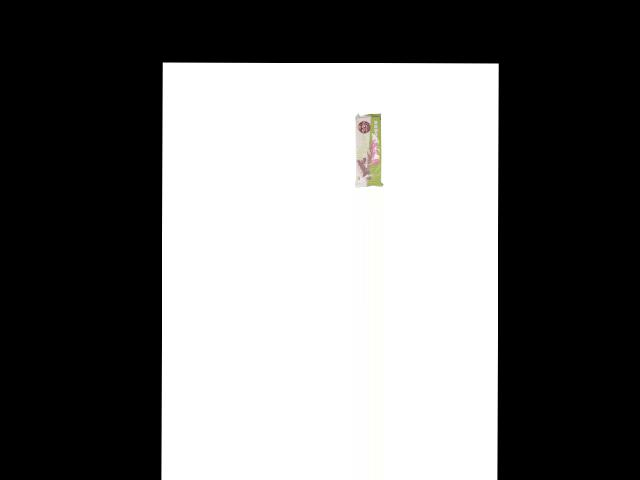chocolate: (352, 110, 382, 187)
